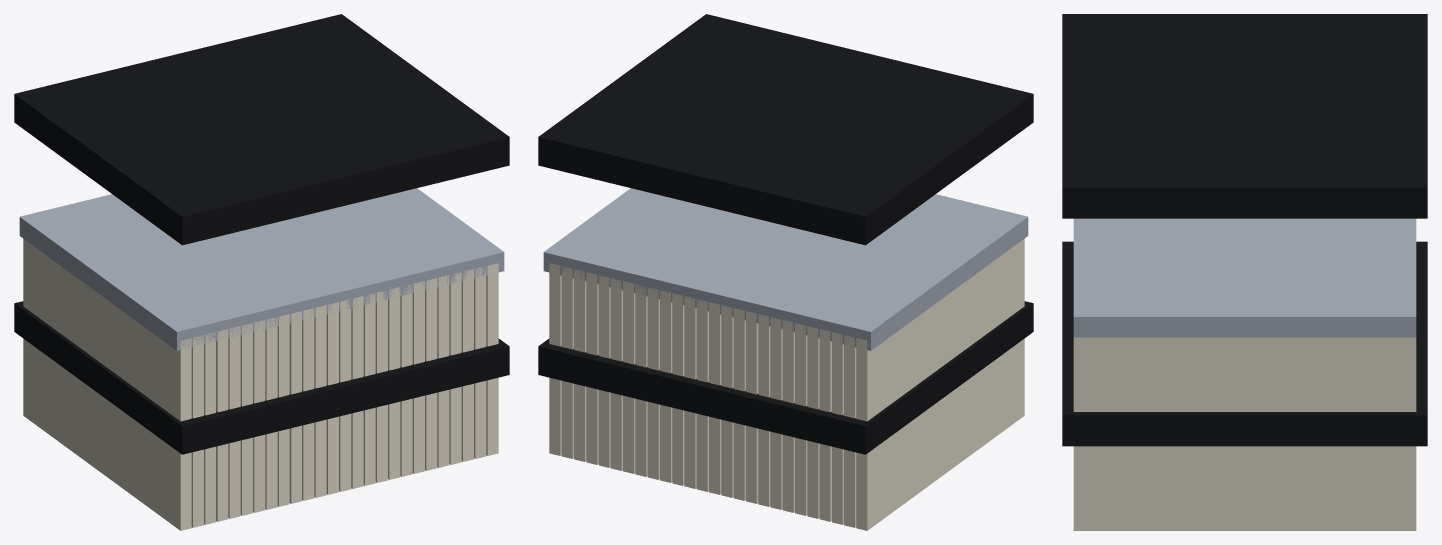
3 views of the same model, side by side, from view 1: azimuth 30°, elevation 25°; view 2: azimuth 150°, elevation 25°; view 3: azimuth 270°, elevation 25° (orthographic). The views are drawn at different scales.
Parts seen in each view (by area): view 1: Filtro de aire; view 2: Filtro de aire; view 3: Filtro de aire.
Boxes of the visible parts, x1,y1,x2,y2 form: Filtro de aire: (14,14,509,530); Filtro de aire: (538,14,1033,530); Filtro de aire: (1062,14,1427,530).
Size of the model in its own units: 1 by 0.9306 by 0.8889.
